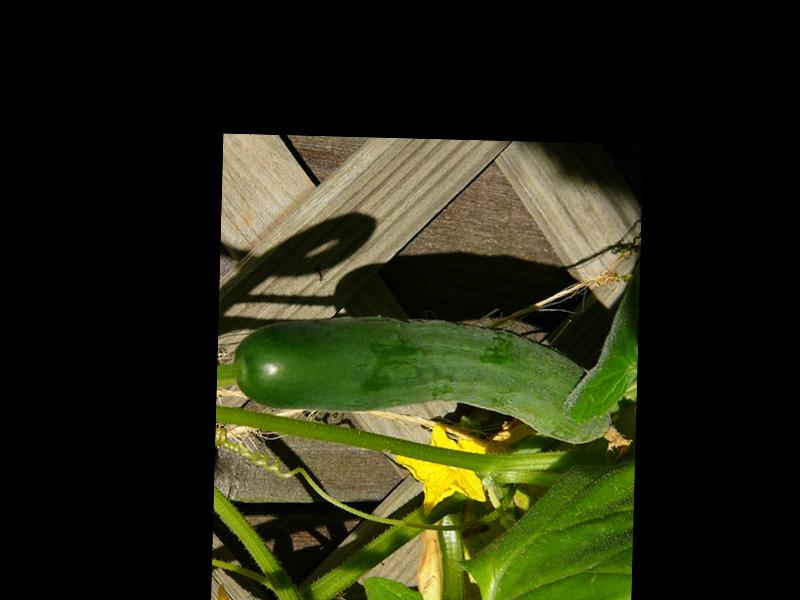Cucumber: (236, 311, 634, 445)
